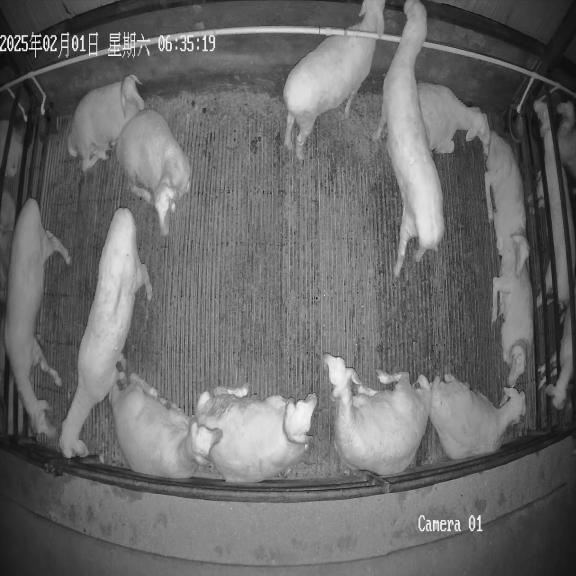lying: (324, 353, 430, 476), (110, 374, 222, 478), (196, 388, 318, 482), (116, 110, 191, 236), (430, 374, 525, 460), (67, 74, 144, 172), (484, 131, 529, 272), (492, 259, 533, 387), (417, 83, 489, 153)
stand: (59, 208, 152, 458), (380, 0, 444, 277), (283, 0, 385, 160), (4, 198, 70, 438)
